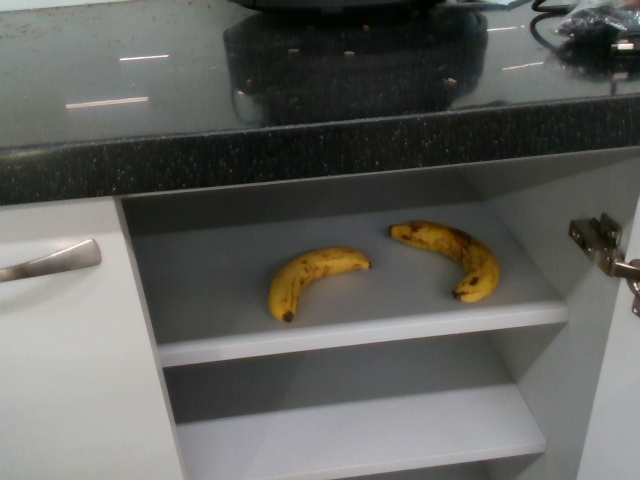banana: (385, 216, 503, 306), (264, 245, 372, 325)
